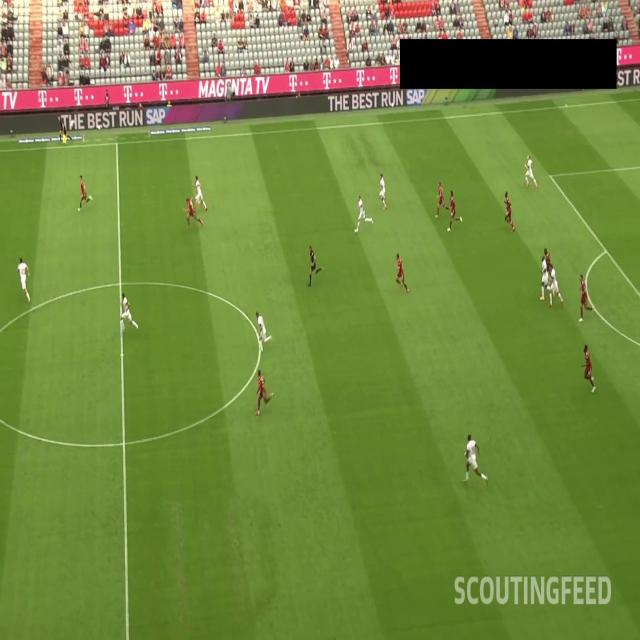ball: (69, 122, 73, 133)
player: (462, 432, 488, 488), (254, 365, 274, 417), (119, 289, 139, 337), (255, 309, 274, 355), (353, 193, 374, 234), (446, 184, 463, 233), (180, 196, 203, 232), (580, 343, 596, 394), (578, 272, 594, 322), (16, 256, 32, 304), (548, 261, 564, 309), (393, 252, 410, 296), (76, 174, 93, 214), (539, 254, 553, 301), (523, 154, 538, 192), (194, 173, 208, 213), (435, 180, 449, 220), (503, 188, 515, 234), (377, 171, 388, 212), (543, 247, 554, 288)
referee: (308, 245, 323, 288), (57, 114, 73, 148)
